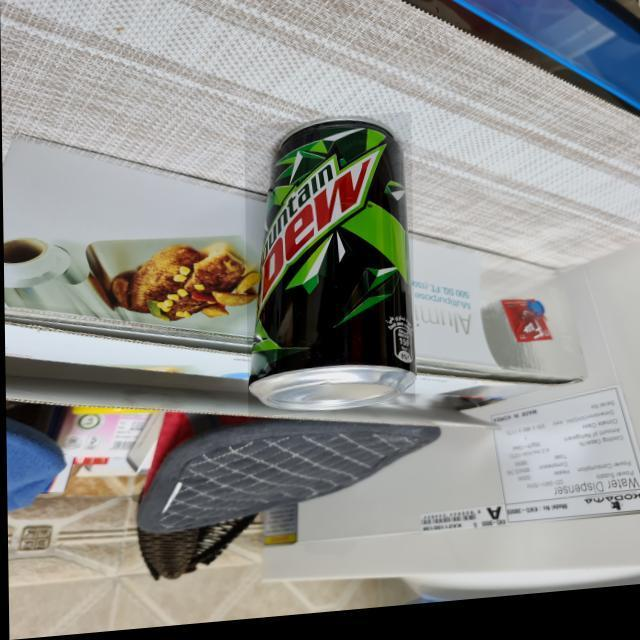trash: (252, 119, 414, 408)
